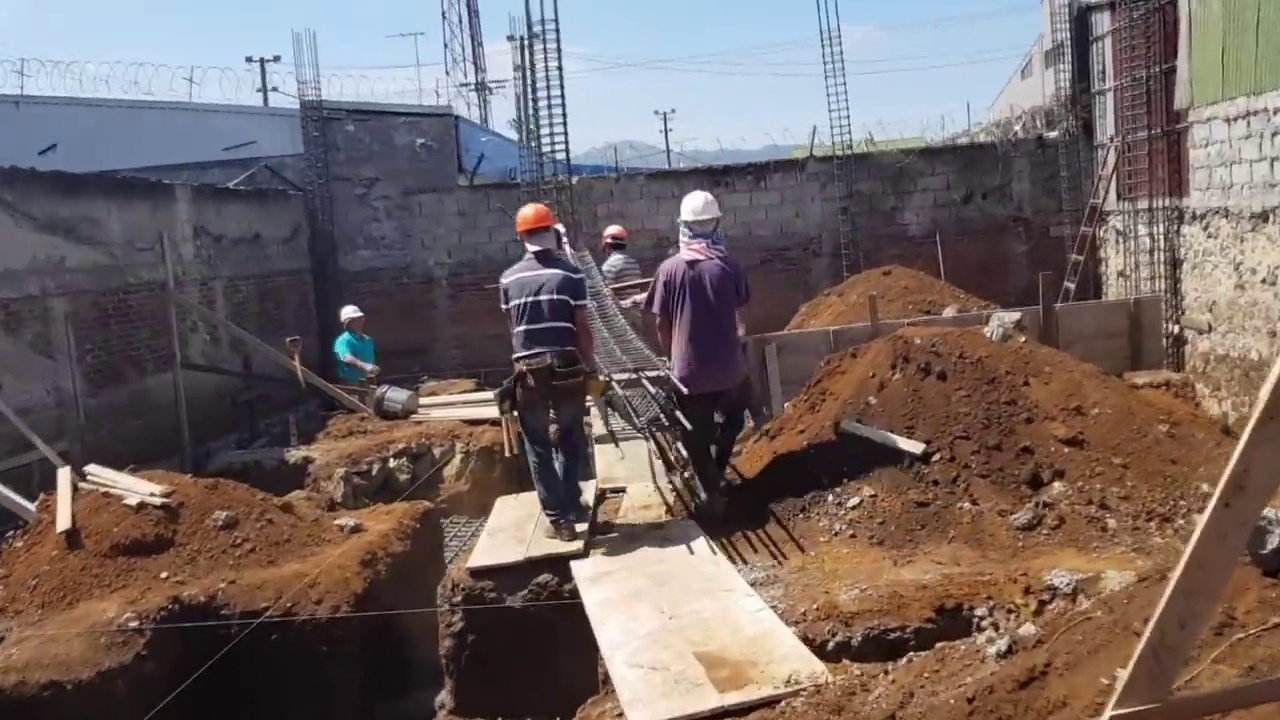helmet: (512, 203, 560, 236), (679, 195, 721, 227), (601, 221, 626, 243), (339, 307, 364, 325)
helmet-on: (676, 193, 726, 255), (513, 202, 568, 258), (601, 221, 630, 255), (340, 306, 366, 337)
person: (499, 203, 618, 543), (647, 191, 752, 525), (593, 221, 643, 332), (325, 306, 374, 385)
